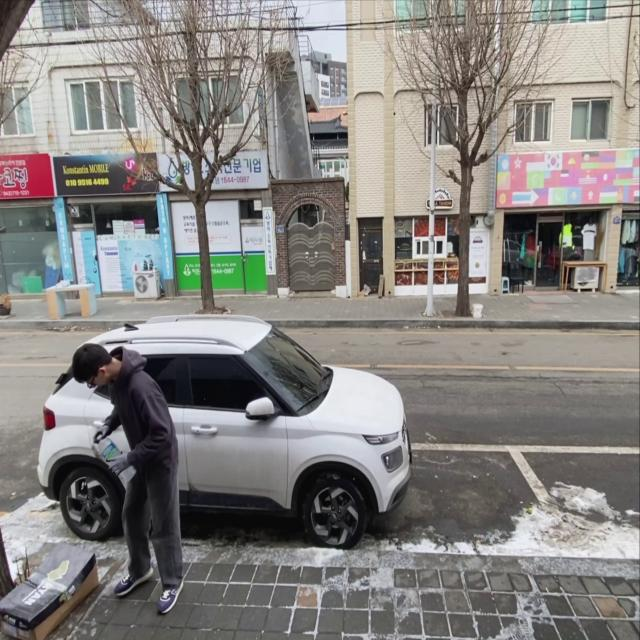gloved_hand: (105, 448, 134, 479), (86, 423, 110, 445)
